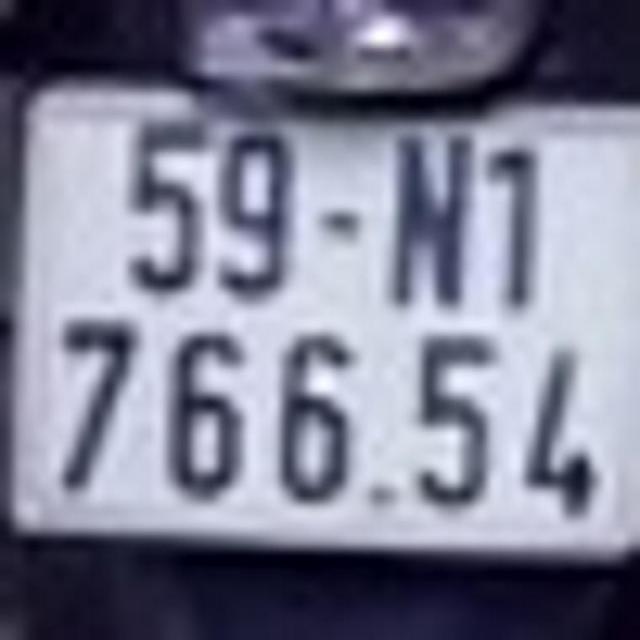1: (485, 138, 547, 304)
4: (520, 338, 604, 512)
5: (408, 330, 492, 504), (126, 116, 204, 294)
6: (274, 323, 360, 504), (168, 321, 245, 498)
7: (54, 313, 134, 490)
9: (218, 124, 290, 300)
N: (388, 128, 471, 306)
